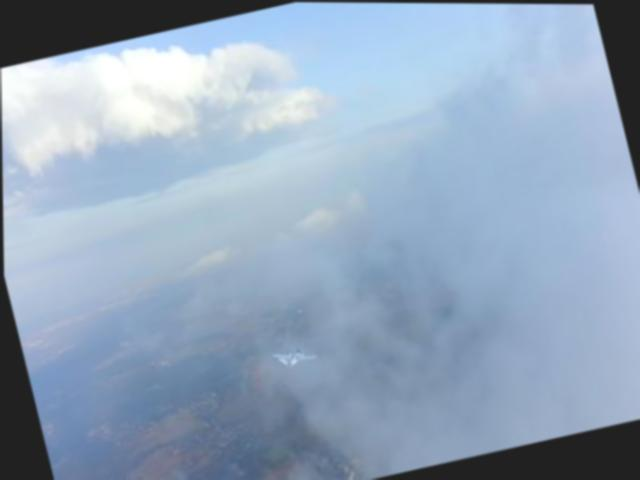uav: (270, 340, 316, 371)
